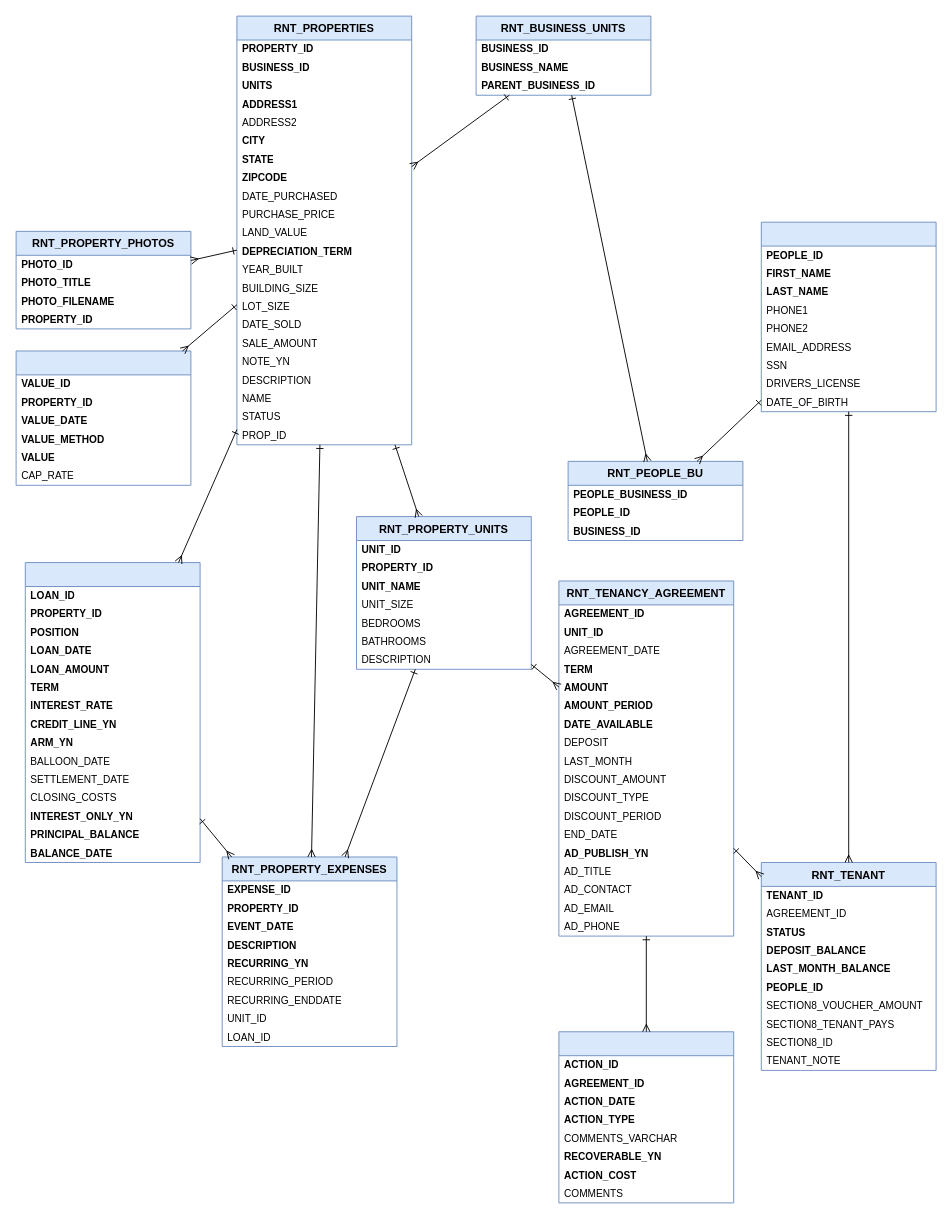
The diagram is 952 pixels wide and 1219 high, and some of its shapes have lost their labels. Here are the shapes that lost their labels. From the top down, the box of each, then its label:
(760, 221, 936, 412): RNT_PEOPLE
(15, 350, 191, 485): RNT_PROPERTY_VALUE
(24, 562, 200, 862): RNT_LOANS
(558, 1031, 734, 1203): RNT_AGREEMENT_ACTIONS
